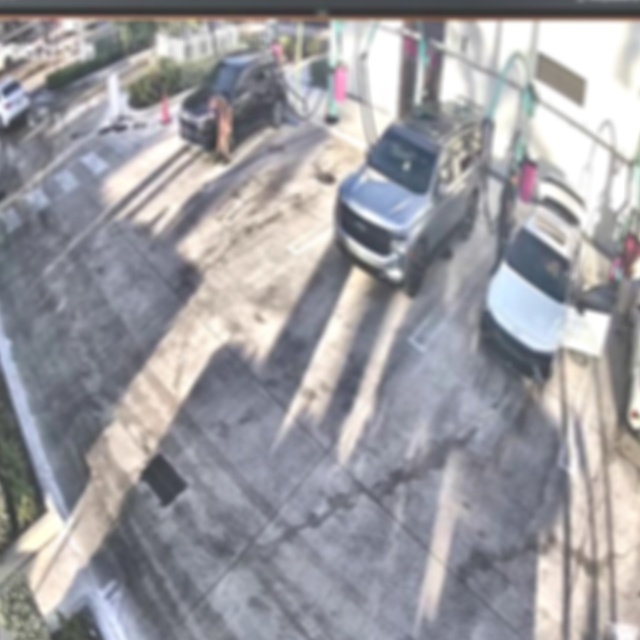Car: (331, 102, 486, 289), (178, 48, 287, 164)
